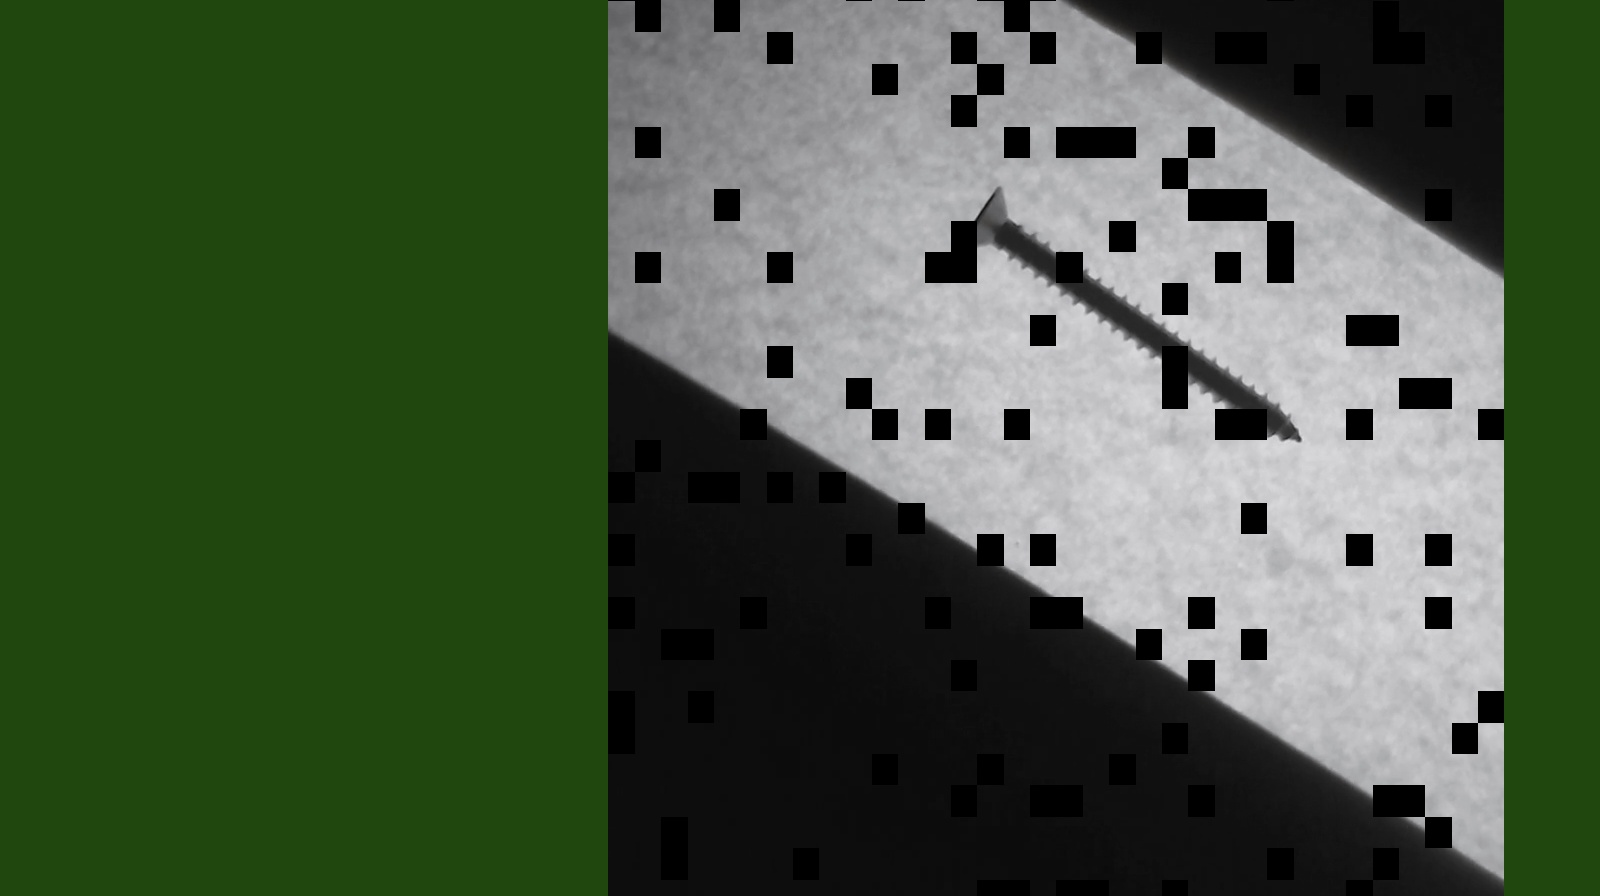S002: (954, 175, 1309, 447)
